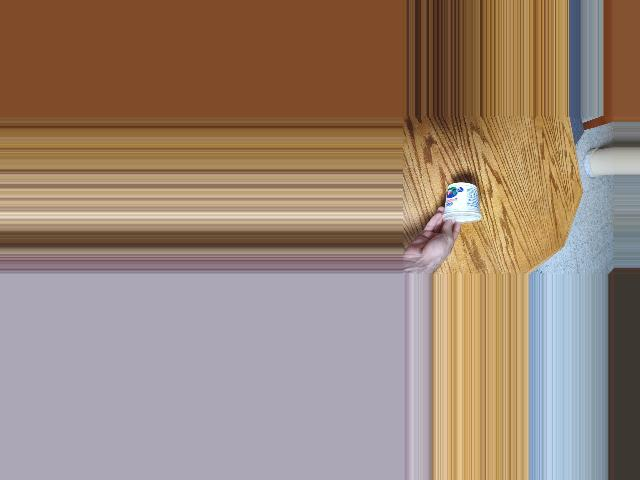cotage: (445, 177, 491, 225)
